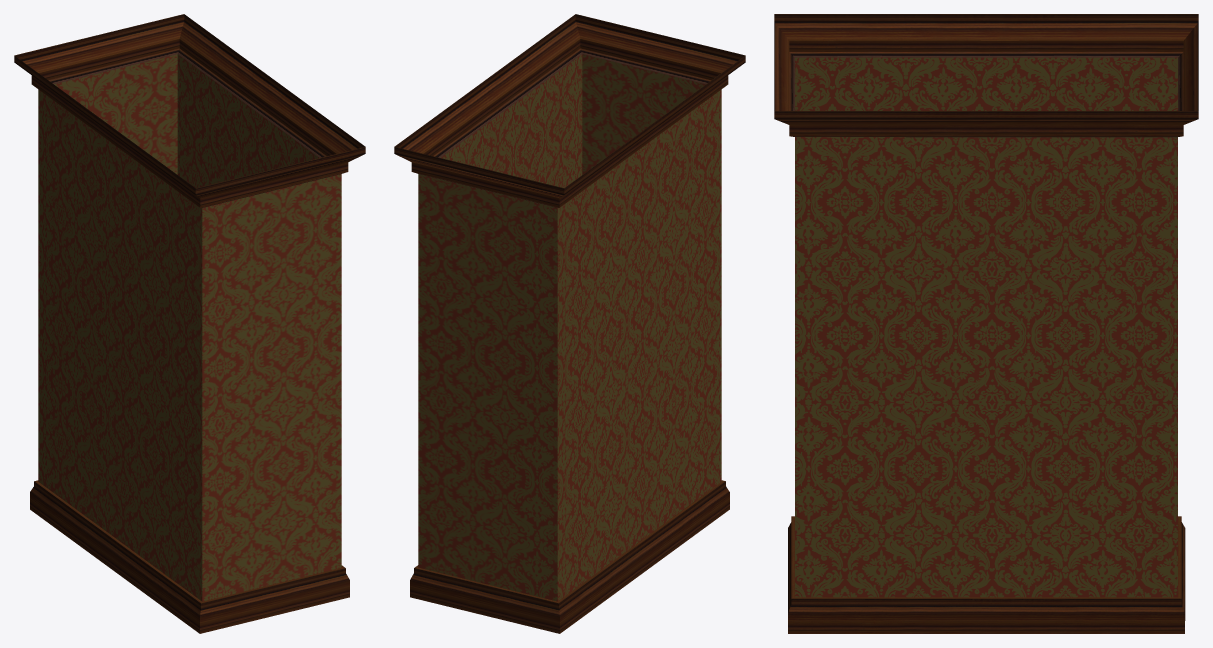
The model's file is WallPlain_box.fbx.
3 renders of one model, left to right at view 1: azimuth 30°, elevation 25°; view 2: azimuth 150°, elevation 25°; view 3: azimuth 270°, elevation 25°, orthographic. The views are drawn at different scales.
Visible parts, largest first — view 1: Wall_DoorV2.004; view 2: Wall_DoorV2.004; view 3: Wall_DoorV2.004.
Boxes of the visible parts, <box> form: Wall_DoorV2.004: <box>14,14,365,633</box>; Wall_DoorV2.004: <box>394,14,745,633</box>; Wall_DoorV2.004: <box>774,14,1198,633</box>.
Size of the model in its own units: 111 by 281 by 205.
